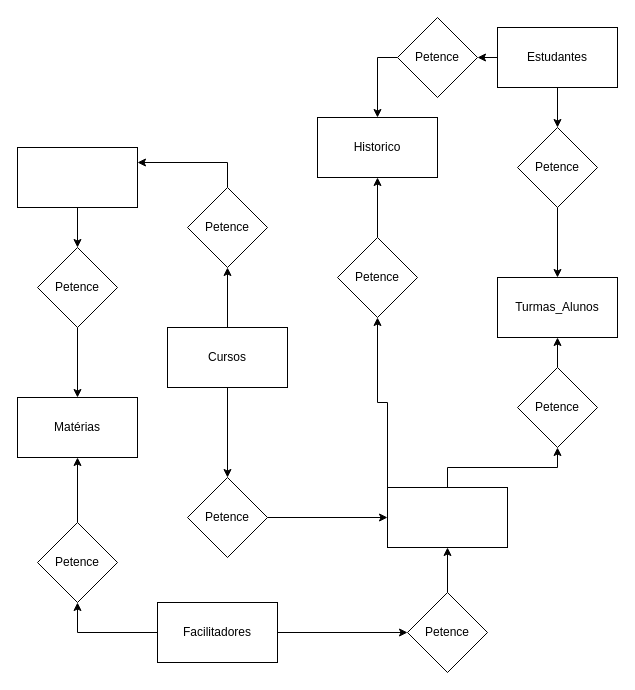
Image size: 635x690. Some labels were removed from this diagram. The box of each missing label's shape, as (x1, y1, x2, y2) in pixels:
Modulos: (16, 146, 138, 208)
Turmas: (386, 486, 508, 548)
